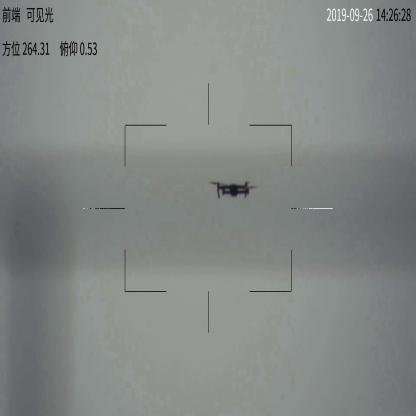uav: (208, 174, 256, 200)
